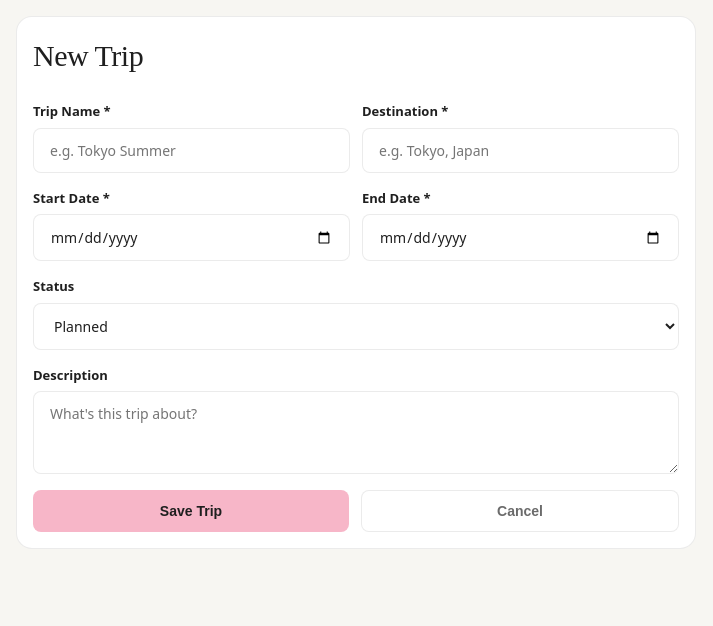
Scenario: NewTrip (validation) › should show an error and not submit when the destination is missing
Type "Tokyo Summer" into the field with placeholder "e.g. Tokyo Summer".
click(192, 150); type("Tokyo Summer")  # box top-left (33, 128), bottom-right (350, 172)
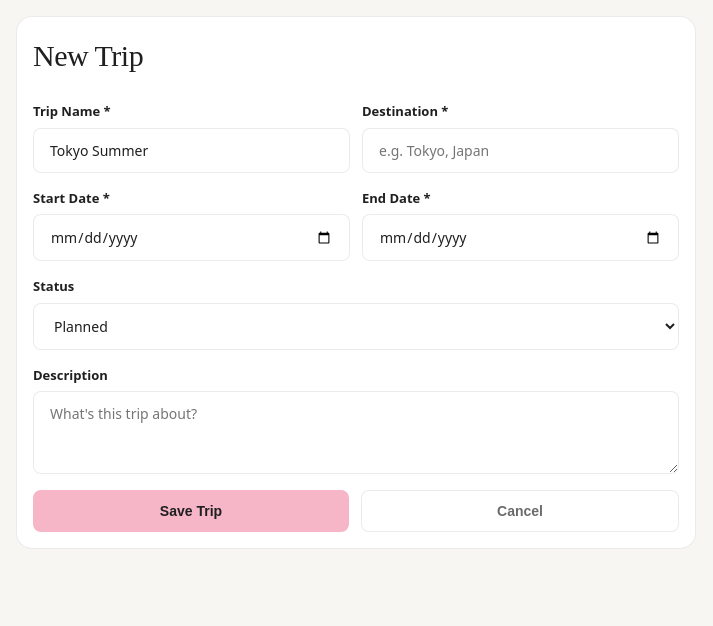
Click the button "Save Trip".
click(191, 511)  # box top-left (33, 490), bottom-right (349, 532)
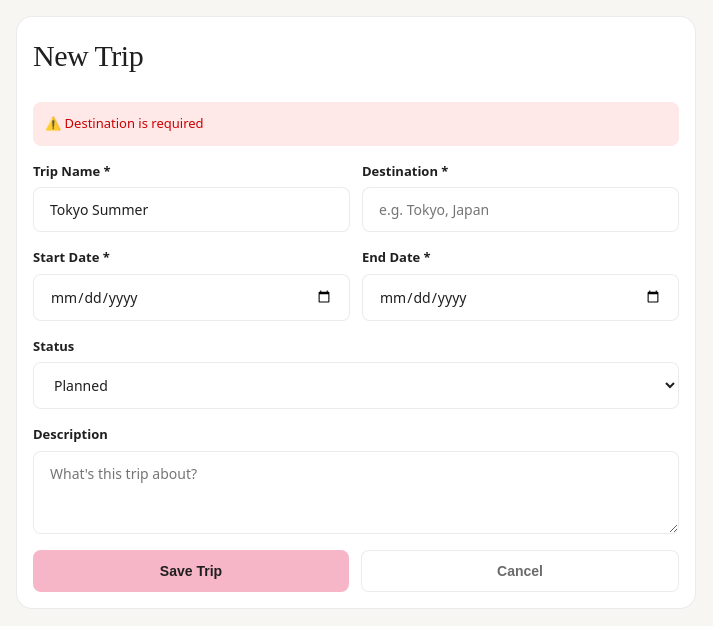
Expected: the text with class "error-message" shows "Destination is required", top-left (45, 114), bottom-right (204, 132)
